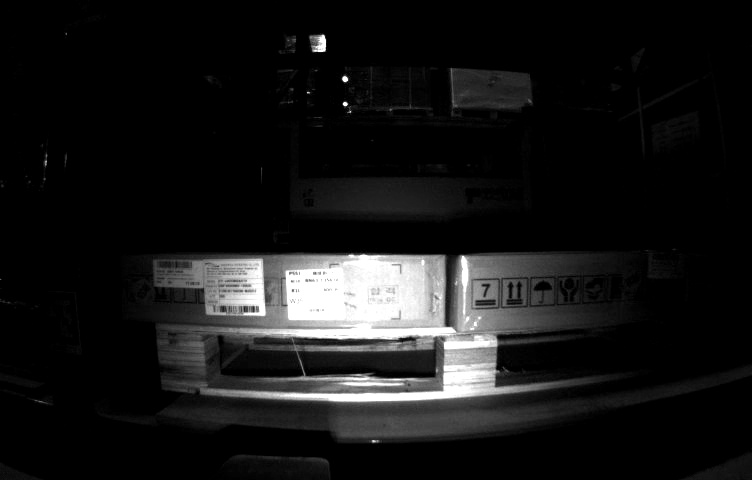True Barcode: (285, 271, 346, 320)
